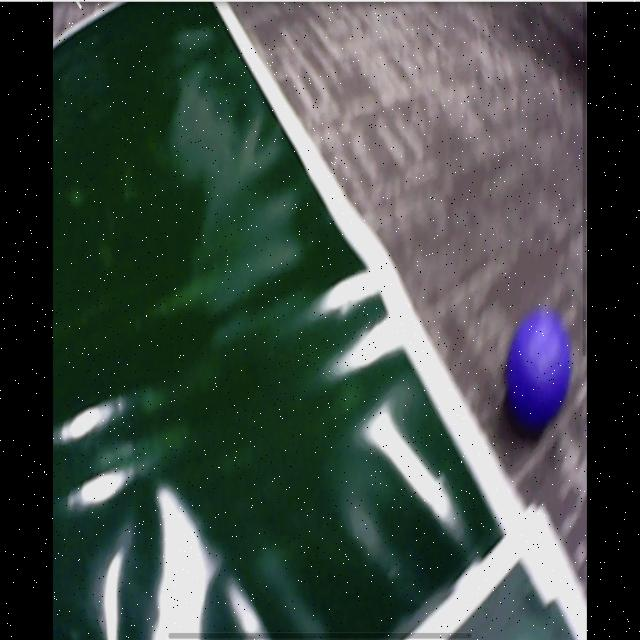ball: (505, 311, 572, 425)
